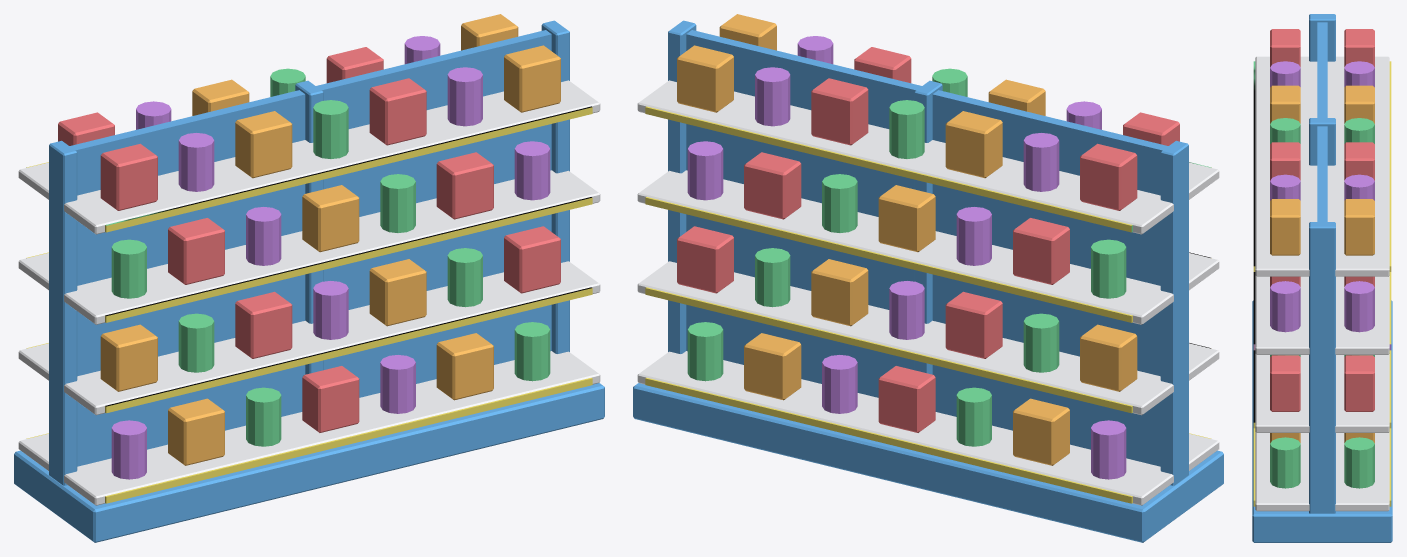
The model's file is rak_gondola.fbx.
The picture shows the model from 3 angles, left to right: view 1: azimuth 30°, elevation 25°; view 2: azimuth 150°, elevation 25°; view 3: azimuth 270°, elevation 25°; orthographic projection. The views are drawn at different scales.
Visible parts, largest first — view 1: rak_gondola; view 2: rak_gondola; view 3: rak_gondola.
Boxes of the visible parts, x1,y1,x2,y2 form: rak_gondola: (14, 14, 604, 542); rak_gondola: (633, 14, 1223, 542); rak_gondola: (1252, 14, 1392, 542).
Bounding box in the file's own units: 800 × 545 × 220.
Materials: 1 (1 with a texture image).
